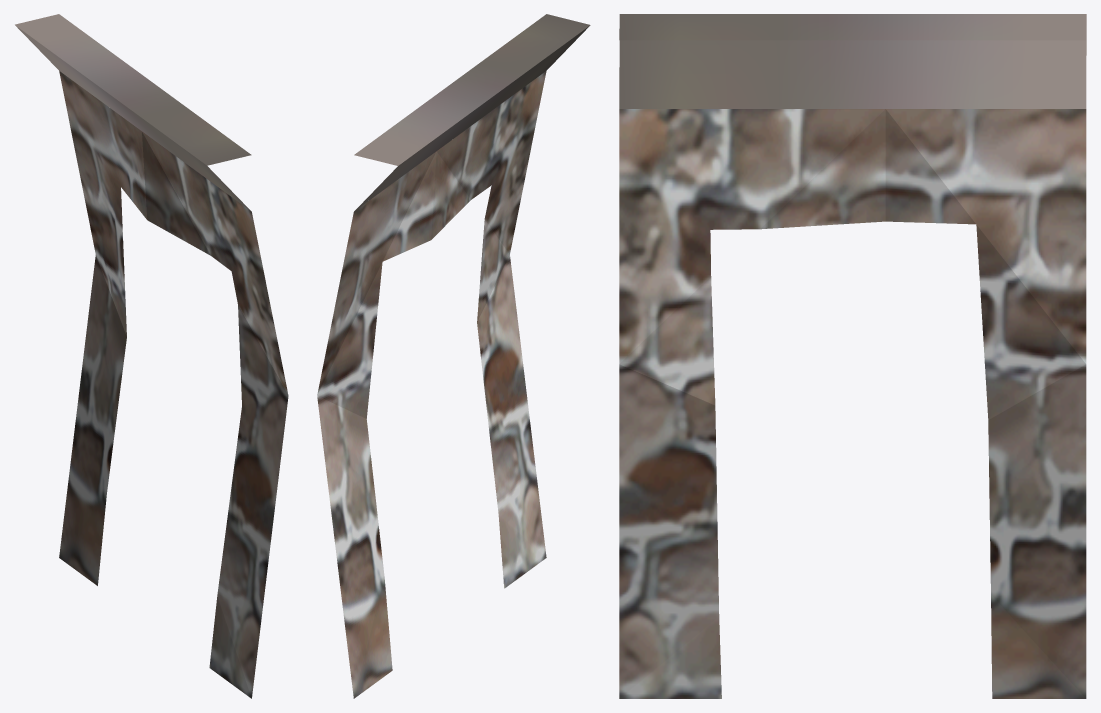
Rendered from W_A3_o [Steine]_1018.glb.
3 renders of one model, left to right at view 1: azimuth 30°, elevation 25°; view 2: azimuth 150°, elevation 25°; view 3: azimuth 270°, elevation 25°, orthographic. The views are drawn at different scales.
Parts seen in each view (by area): view 1: polySurfaceShape1213, polySurfaceShape1215; view 2: polySurfaceShape1213, polySurfaceShape1215; view 3: polySurfaceShape1213, polySurfaceShape1215.
Boxes of the visible parts, box(x1,y1,x2,y2) form: polySurfaceShape1213: box(59, 71, 288, 698); polySurfaceShape1215: box(15, 14, 251, 211); polySurfaceShape1213: box(317, 71, 546, 698); polySurfaceShape1215: box(354, 14, 590, 211); polySurfaceShape1213: box(619, 109, 1086, 698); polySurfaceShape1215: box(619, 14, 1086, 108).
Size of the model in its own units: 0.0607 by 0.3891 by 0.2503.
Materials: 2 (2 with a texture image).
